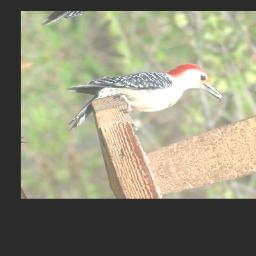Woodpecker: (53, 47, 226, 145)
